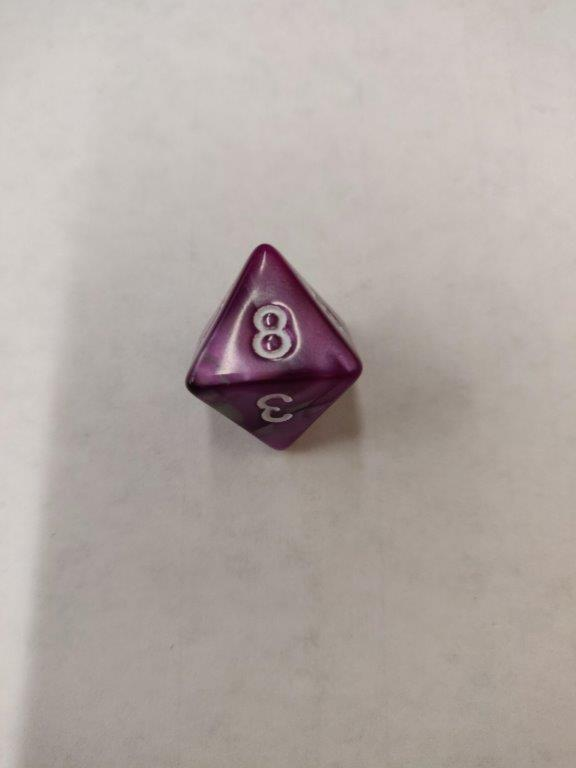d8-8: (188, 244, 362, 452)
